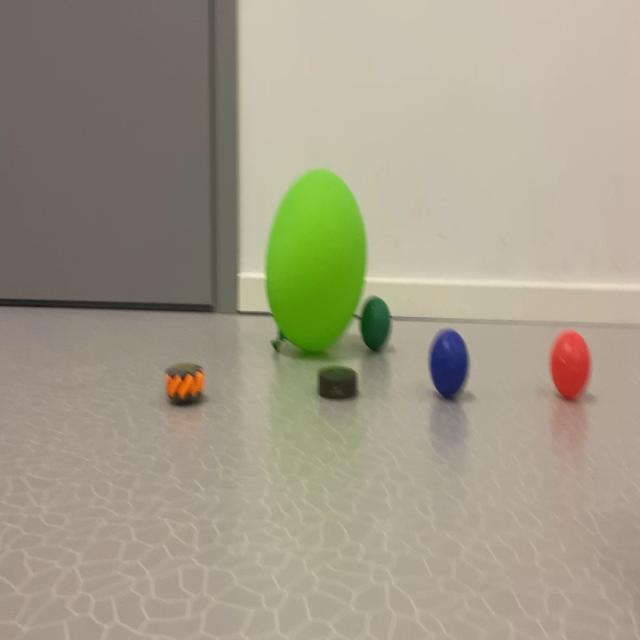7: (548, 314, 606, 432)
green ball: (424, 324, 480, 419)
red ball: (360, 283, 404, 373)
